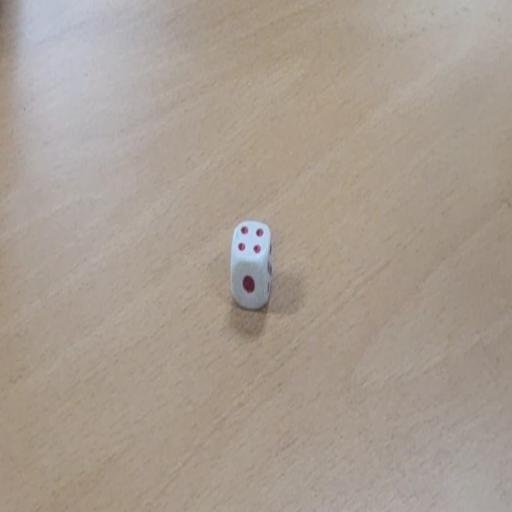dice_4: (230, 220, 273, 312)
